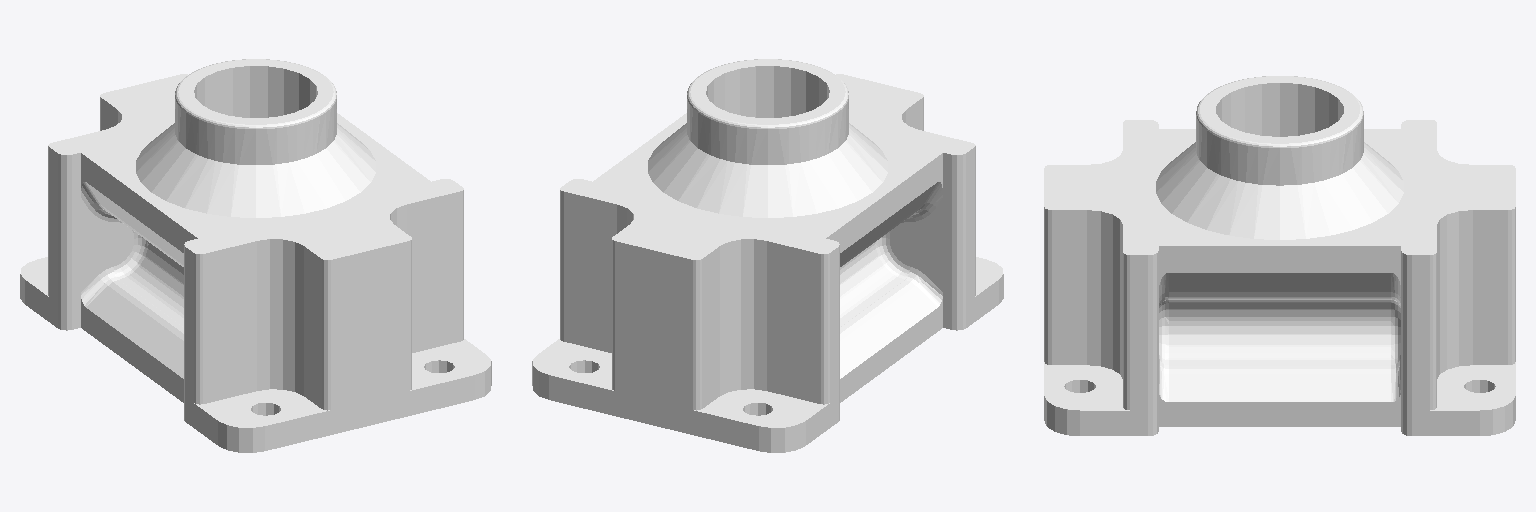
URDF robot description (grasp_based):
<?xml version="1.0" encoding="utf-8"?>
<!-- This URDF was automatically created by SolidWorks to URDF Exporter! Originally created by Stephen Brawner (brawner@gmail.com) 
     Commit Version: 1.6.0-4-g7f85cfe  Build Version: 1.6.7995.38578
     For more information, please see http://wiki.ros.org/sw_urdf_exporter -->
<robot
  name="grasp_based">
  <link
    name="base_link">
    <inertial>
      <origin
        xyz="4.6829E-09 -5.196E-09 -0.024212"
        rpy="0 0 0" />
      <mass
        value="0.044918" />
      <inertia
        ixx="1.7092E-05"
        ixy="-3.6232E-13"
        ixz="-1.2567E-12"
        iyy="1.0056E-05"
        iyz="1.3594E-12"
        izz="1.8428E-05" />
    </inertial>
    <visual>
      <origin
        xyz="0 0 0"
        rpy="0 0 0" />
      <geometry>
        <mesh
          filename="package://grasp_based/meshes/base_link.STL" />
      </geometry>
      <material
        name="">
        <color
          rgba="1 1 1 1" />
      </material>
    </visual>
    <collision>
      <origin
        xyz="0 0 0"
        rpy="0 0 0" />
      <geometry>
        <mesh
          filename="package://grasp_based/meshes/base_link.STL" />
      </geometry>
    </collision>
  </link>
</robot>

--- Render facts (derived) ---
3 views of the same robot in one strip: view 1: azimuth 30°, elevation 25°; view 2: azimuth 150°, elevation 25°; view 3: azimuth 270°, elevation 25° (orthographic).
Model grasp_based with 1 links and 0 joints (none), rooted at base_link, posed all joints at 0.
Visible links, largest first — view 1: base_link; view 2: base_link; view 3: base_link.
Link boxes in pixels (x1=…): base_link: x1=20, y1=59, x2=491, y2=452; base_link: x1=532, y1=59, x2=1003, y2=452; base_link: x1=1044, y1=76, x2=1515, y2=435.
Bounding box of the posed robot: 0.045 × 0.066 × 0.04 m (x, y, z).
Meshes: 1 distinct files referenced, 1 mesh visuals loaded (1 binary STL).
